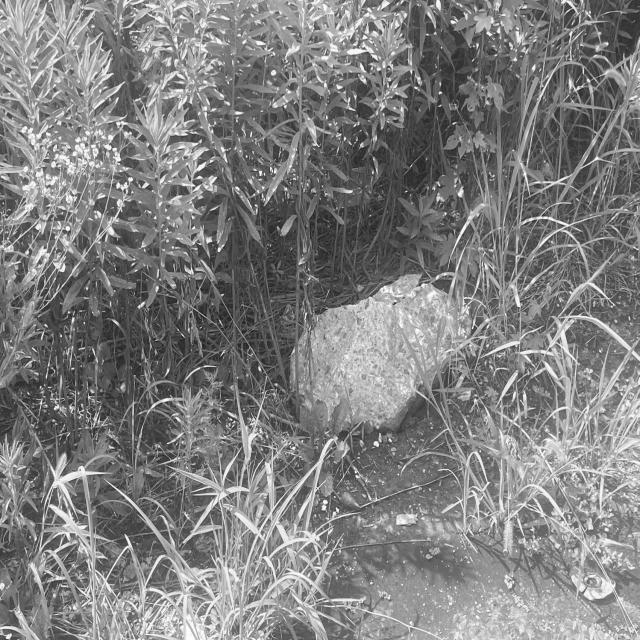Stone: (291, 274, 470, 429)
